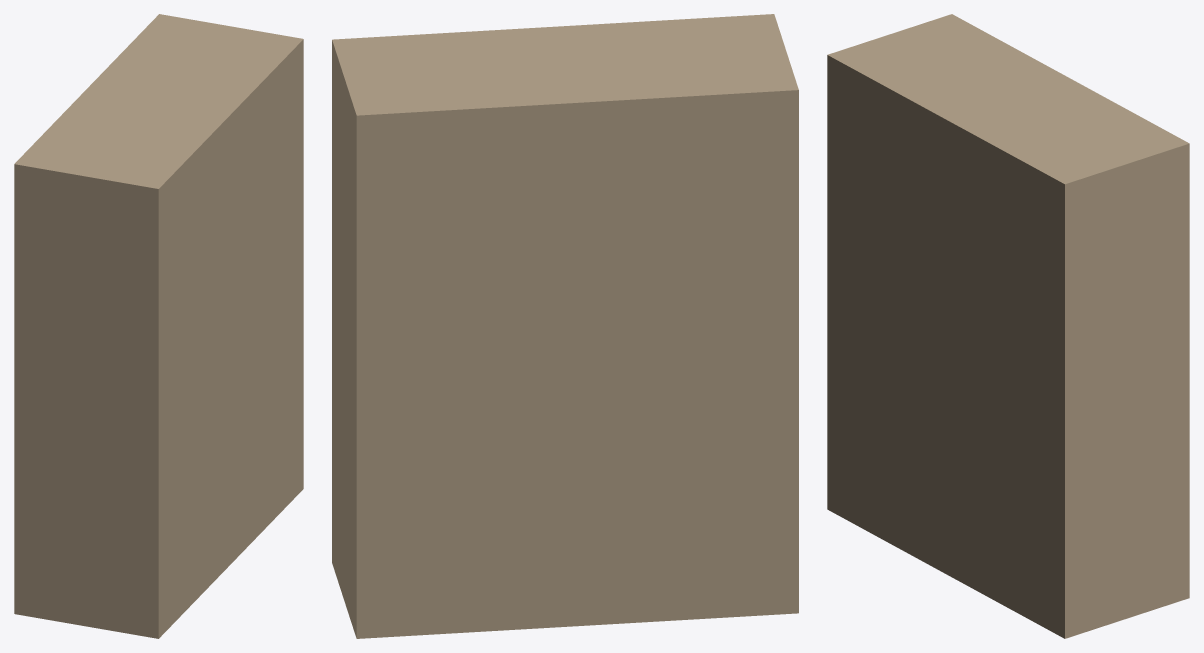
Rendered from bld_158045461.dae.
3 renders of one model, left to right at view 1: azimuth 30°, elevation 25°; view 2: azimuth 150°, elevation 25°; view 3: azimuth 270°, elevation 25°, orthographic. The views are drawn at different scales.
Parts seen in each view (by area): view 1: bld_158045461; view 2: bld_158045461; view 3: bld_158045461.
Boxes of the visible parts, <box> form: bld_158045461: <box>14,14,303,638</box>; bld_158045461: <box>332,14,798,638</box>; bld_158045461: <box>827,14,1189,638</box>.
Bounding box in the file's own units: 6.43 × 5.78 × 8.
